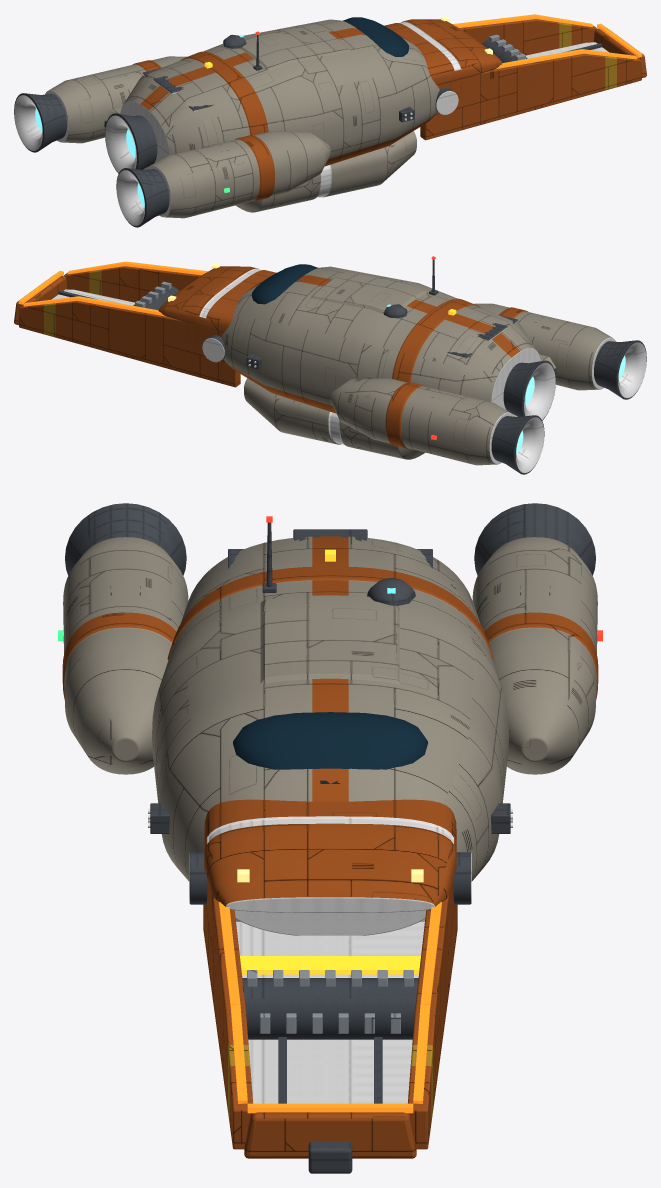
File: pelican_production_v1.glb
The picture shows the model from 3 angles, top to bottom: view 1: azimuth 30°, elevation 25°; view 2: azimuth 150°, elevation 25°; view 3: azimuth 270°, elevation 25°; orthographic projection. The views are drawn at different scales.
Visible parts, largest first — view 1: LOD0_Hull, LOD0_Armor, LOD0_MechanicalDark, LOD0_Mechanical, LOD0_Livery, LOD0_Lights_Cyan_bill, LOD0_CANOPY, LOD0_Warning, LOD0_HOOK_DRIVE_CORE, LOD0_BrushedMetal; view 2: LOD0_Hull, LOD0_Armor, LOD0_MechanicalDark, LOD0_Mechanical, LOD0_Livery, LOD0_Lights_Cyan_bill, LOD0_CANOPY, LOD0_Warning, LOD0_HOOK_DRIVE_CORE, LOD0_BrushedMetal; view 3: LOD0_Hull, LOD0_Armor, LOD0_Mechanical, LOD0_MechanicalDark, LOD0_Livery, LOD0_CANOPY, LOD0_Lights_Cyan_bill, LOD0_Beacon_Amber, LOD0_BrushedMetal, LOD0_HOOK_SENSOR_DOME_Mechanical.
Part boxes in pixels (left/top/right/bottom): LOD0_Hull: left=48, top=19, right=439, bottom=218; LOD0_Armor: left=324, top=19, right=646, bottom=166; LOD0_MechanicalDark: left=14, top=21, right=609, bottom=225; LOD0_Mechanical: left=14, top=38, right=602, bottom=227; LOD0_Livery: left=132, top=28, right=412, bottom=201; LOD0_Lights_Cyan_bill: left=452, top=14, right=642, bottom=69; LOD0_CANOPY: left=343, top=17, right=408, bottom=56; LOD0_Warning: left=558, top=22, right=616, bottom=90; LOD0_HOOK_DRIVE_CORE: left=35, top=108, right=144, bottom=207; LOD0_BrushedMetal: left=489, top=34, right=527, bottom=60; LOD0_Hull: left=221, top=266, right=612, bottom=465; LOD0_Armor: left=14, top=266, right=335, bottom=413; LOD0_MechanicalDark: left=52, top=268, right=646, bottom=472; LOD0_Mechanical: left=58, top=285, right=646, bottom=474; LOD0_Livery: left=248, top=275, right=528, bottom=448; LOD0_Lights_Cyan_bill: left=18, top=261, right=207, bottom=316; LOD0_CANOPY: left=252, top=264, right=317, bottom=304; LOD0_Warning: left=44, top=269, right=102, bottom=337; LOD0_HOOK_DRIVE_CORE: left=516, top=355, right=625, bottom=454; LOD0_BrushedMetal: left=133, top=281, right=171, bottom=307; LOD0_Hull: left=63, top=536, right=597, bottom=921; LOD0_Armor: left=172, top=799, right=488, bottom=1158; LOD0_Mechanical: left=65, top=503, right=595, bottom=1173; LOD0_MechanicalDark: left=148, top=809, right=512, bottom=1103; LOD0_Livery: left=62, top=536, right=598, bottom=801; LOD0_CANOPY: left=233, top=712, right=427, bottom=783; LOD0_Lights_Cyan_bill: left=218, top=902, right=442, bottom=1113; LOD0_Beacon_Amber: left=240, top=549, right=420, bottom=974; LOD0_BrushedMetal: left=247, top=970, right=413, bottom=1033; LOD0_HOOK_SENSOR_DOME_Mechanical: left=367, top=578, right=415, bottom=605.
Size of what is drawn, in the model's own units: 14.71 by 4.63 by 6.26.
Materials: 15 (7 with a texture image).
